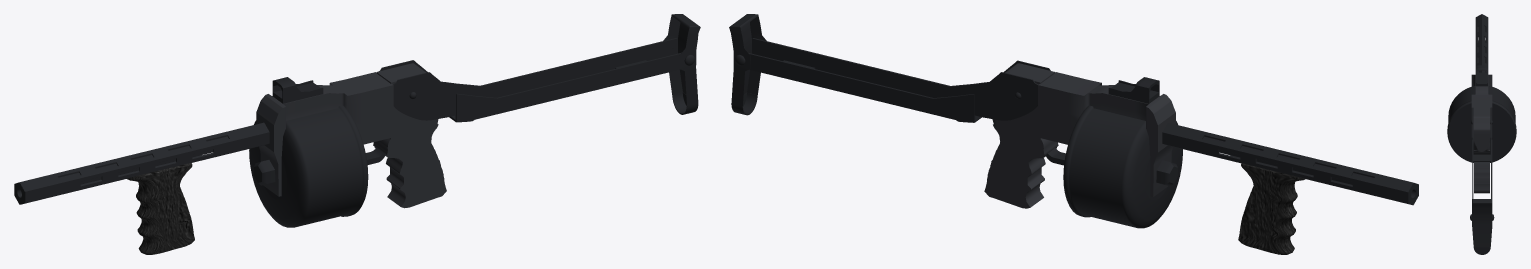
Rendered from autoshotgun.fbx.
3 renders of one model, left to right at view 1: azimuth 30°, elevation 25°; view 2: azimuth 150°, elevation 25°; view 3: azimuth 270°, elevation 25°, orthographic. The views are drawn at different scales.
Visible parts, largest first — view 1: polySurface5, polySurface6, polySurface9; view 2: polySurface5, polySurface6, polySurface9; view 3: polySurface5, polySurface6.
Part boxes in pixels (<box>): polySurface5: <box>14,14,700,227</box>; polySurface6: <box>256,63,446,208</box>; polySurface9: <box>126,162,194,254</box>; polySurface5: <box>729,14,1418,228</box>; polySurface6: <box>984,63,1175,208</box>; polySurface9: <box>1238,163,1305,254</box>; polySurface5: <box>1447,14,1516,254</box>; polySurface6: <box>1471,74,1492,193</box>.
Bounding box in the file's own units: 21.79 × 4.65 × 3.4.
Materials: 3 (1 with a texture image).
